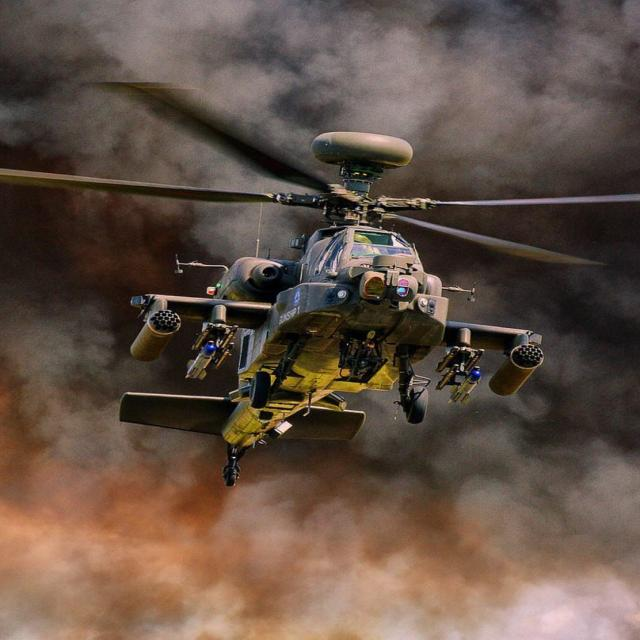MIL_HELO: (10, 71, 640, 453)
